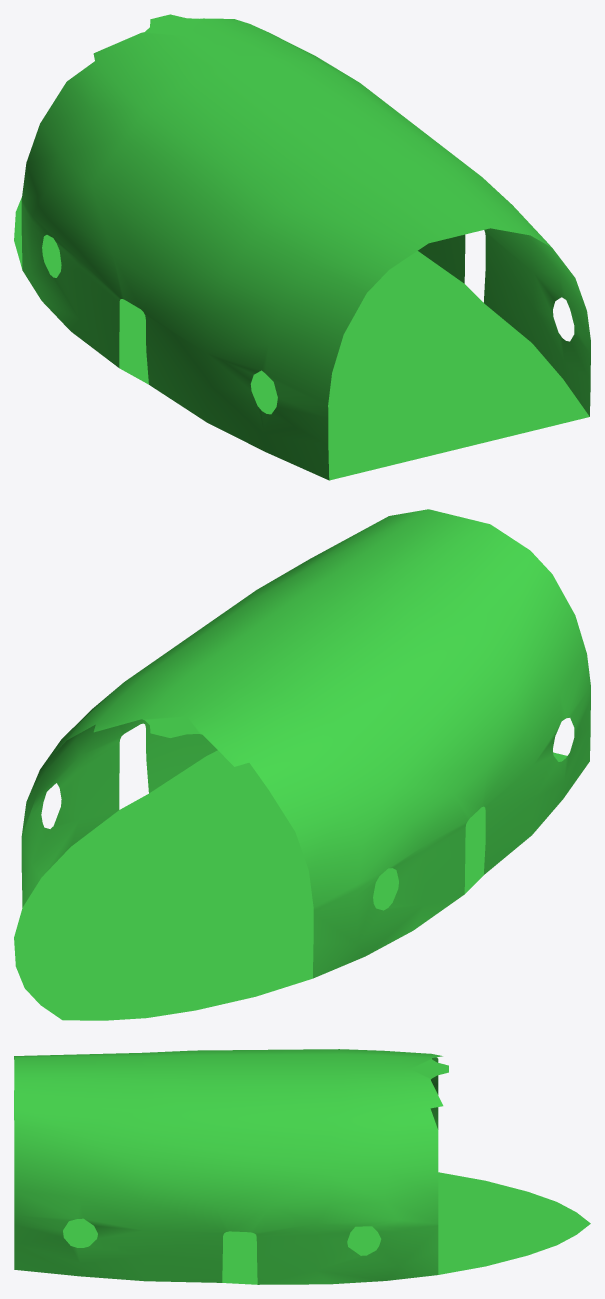
The model's file is cadre.FBX.
The picture shows the model from 3 angles, top to bottom: view 1: azimuth 30°, elevation 25°; view 2: azimuth 150°, elevation 25°; view 3: azimuth 270°, elevation 25°; orthographic projection. The views are drawn at different scales.
Visible parts, largest first — view 1: cadre; view 2: cadre; view 3: cadre.
Part boxes in pixels (x1=…): cadre: x1=14, y1=14, x2=590, y2=480; cadre: x1=14, y1=509, x2=590, y2=1020; cadre: x1=14, y1=1049, x2=590, y2=1284.
Size of the model in its own units: 980 by 575 by 1946.
